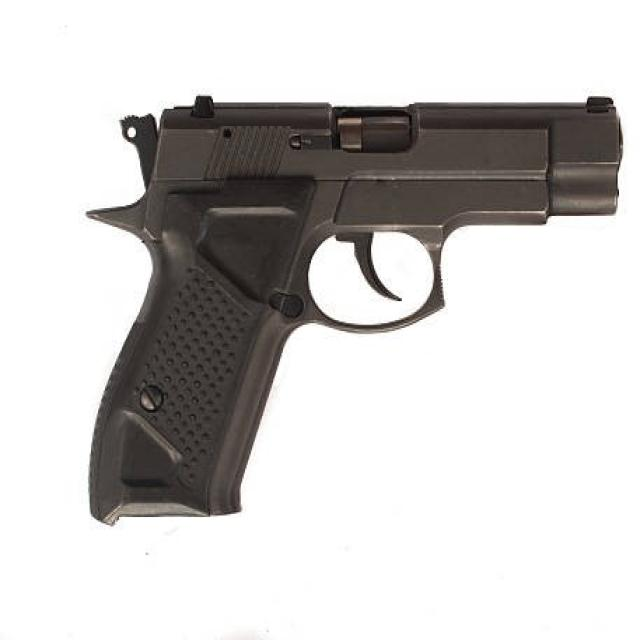pistol: (69, 86, 628, 537)
